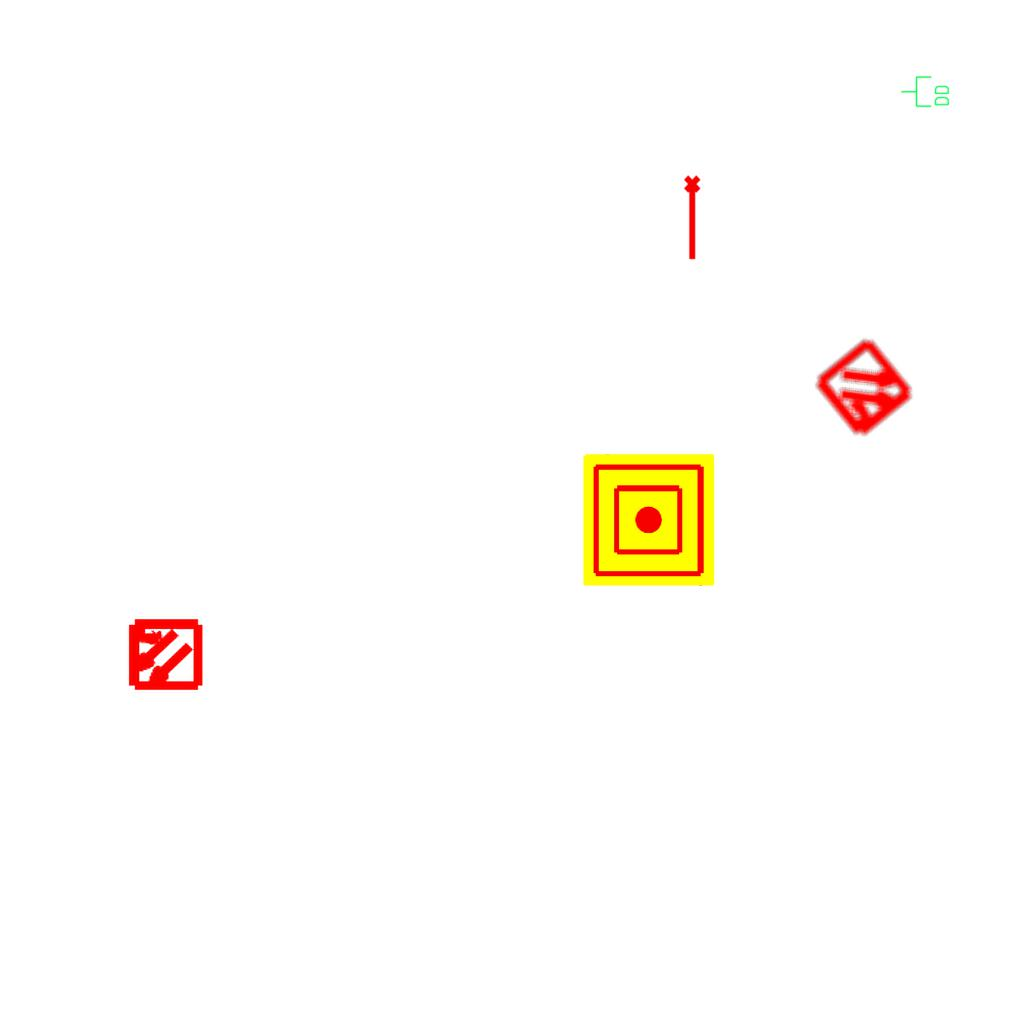ASR_Ansaugoeffnung: (682, 174, 705, 262)
Datenanschluss_zweifach: (900, 75, 951, 109)
NAM-Nichtautomatischer_Melder: (583, 454, 715, 586)
OT_Multisensormelder_(Kombination_RMO_WMD): (786, 310, 945, 469), (107, 598, 220, 711)
